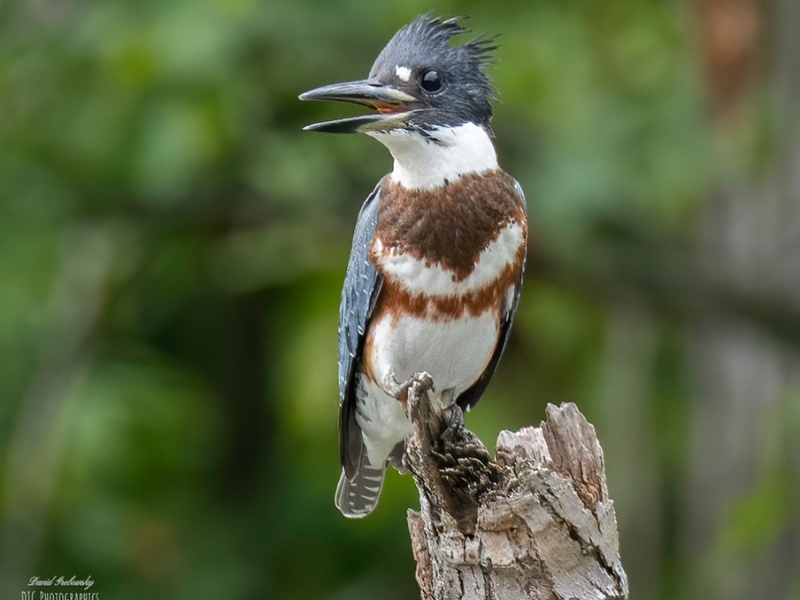kingfisher: (292, 12, 532, 524)
